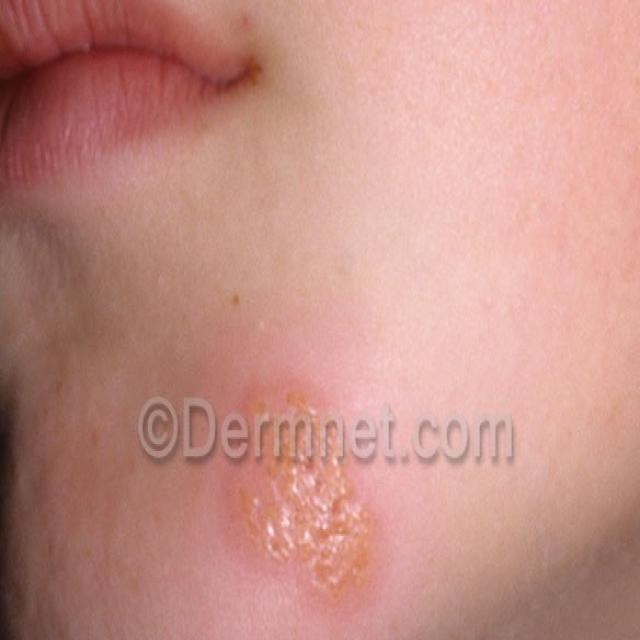Viral Infections: (216, 363, 381, 603)
